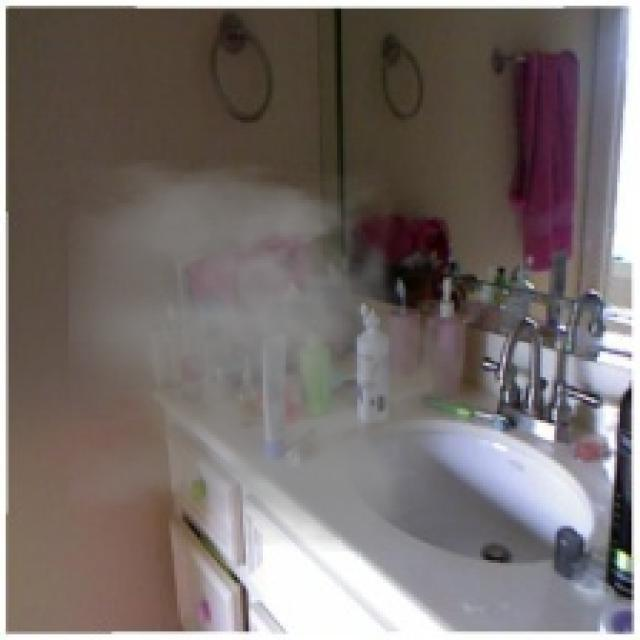Smoke: (68, 159, 483, 552)
